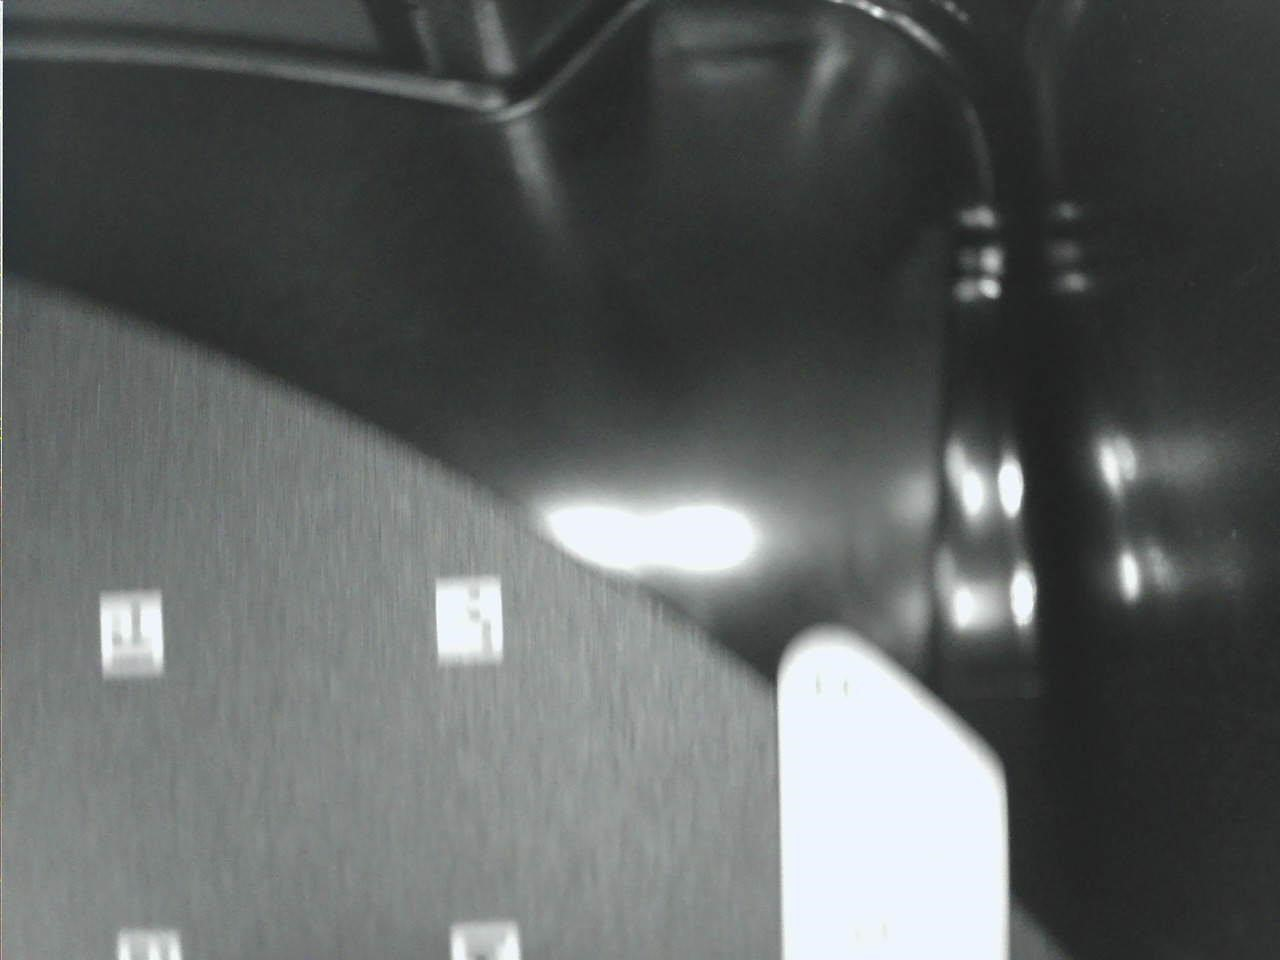forktip: (756, 600, 1033, 960)
